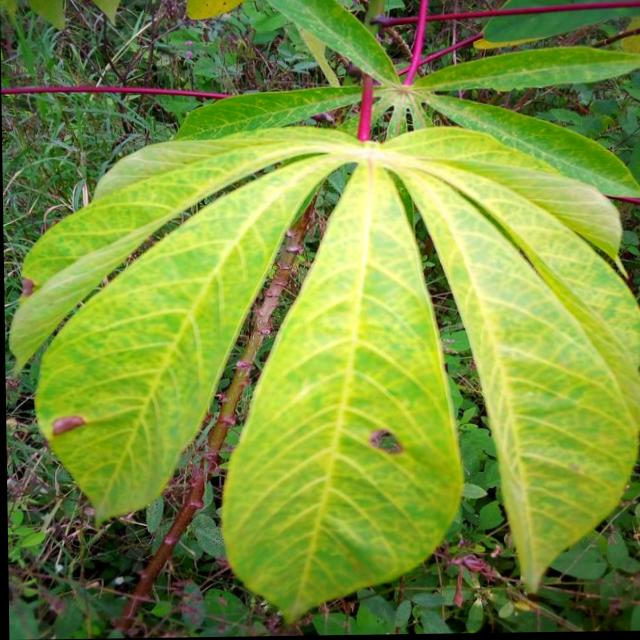Mosaico: (45, 131, 640, 586)
